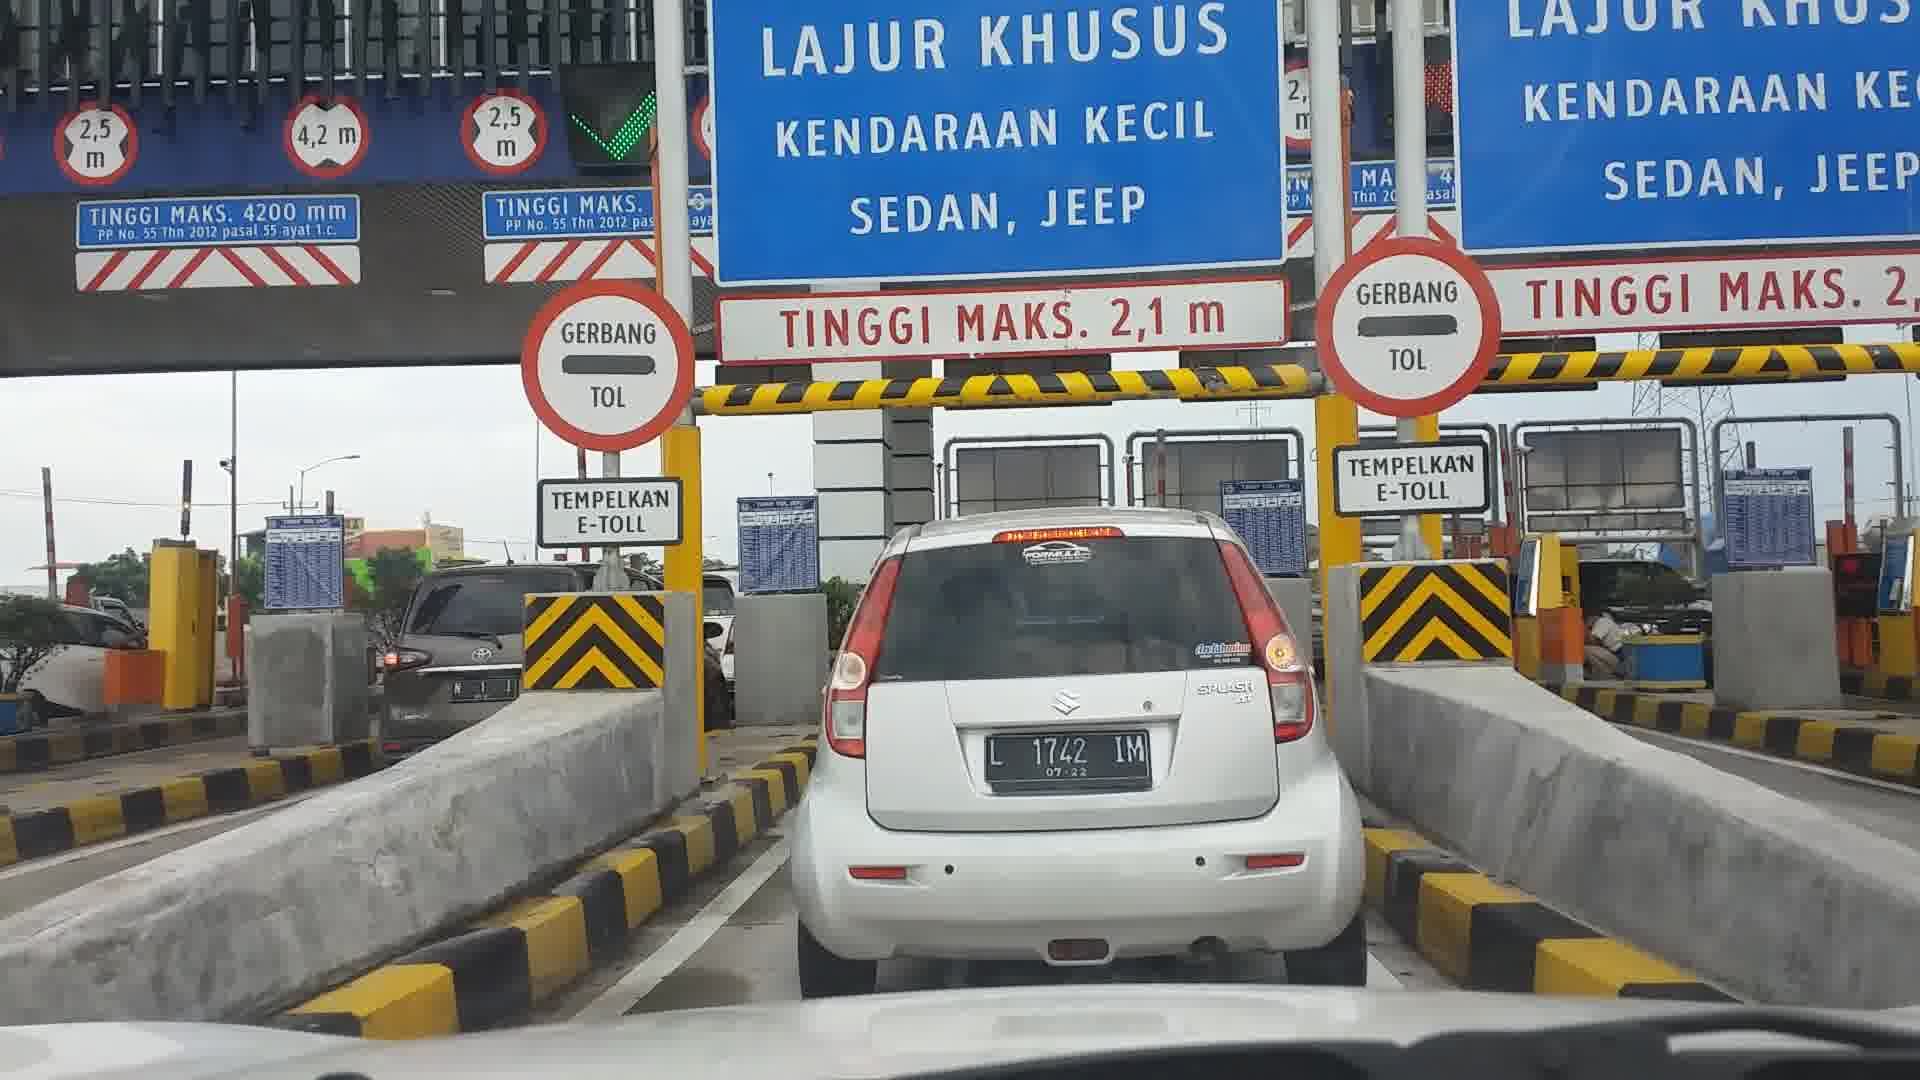plate_positive: (984, 731, 1153, 793), (448, 676, 517, 703)
